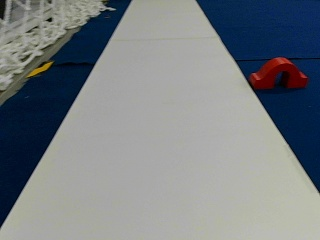bridge: (251, 57, 307, 87)
